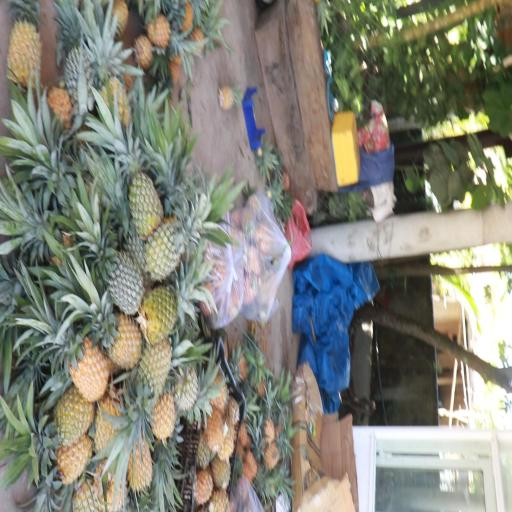------------------------------: (140, 273, 202, 339), (144, 206, 199, 276), (125, 160, 163, 234)
Pineapple - v8 v1: (50, 322, 110, 394), (87, 294, 142, 366), (6, 2, 44, 100), (38, 390, 95, 446), (44, 427, 92, 488), (136, 340, 170, 414)
